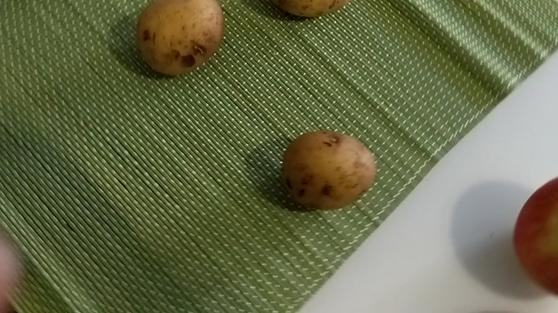potato: (280, 128, 383, 210), (134, 1, 221, 77)
